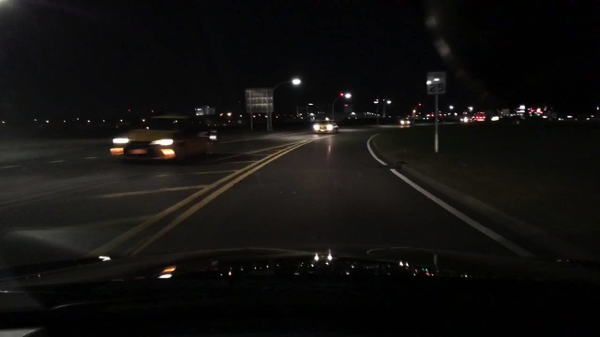car: (109, 113, 217, 165), (312, 118, 338, 134), (399, 118, 415, 125), (490, 114, 508, 120), (458, 115, 473, 122), (476, 112, 488, 120), (428, 117, 443, 123)
traffic sign: (244, 88, 272, 113), (427, 71, 446, 94)
